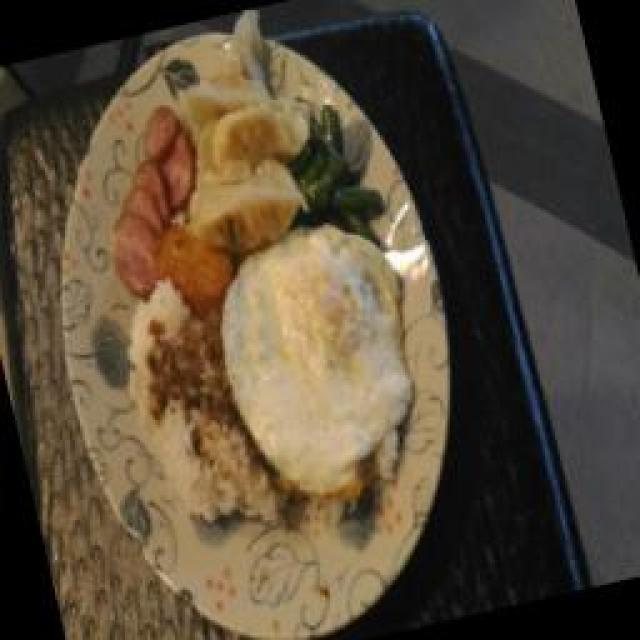chinese_sausage: (78, 98, 221, 303)
fried_dumplings: (162, 8, 330, 261)
fried_eggs: (195, 203, 445, 516)
rice: (105, 273, 268, 553)
triangle_hash_brown: (145, 210, 238, 323)
